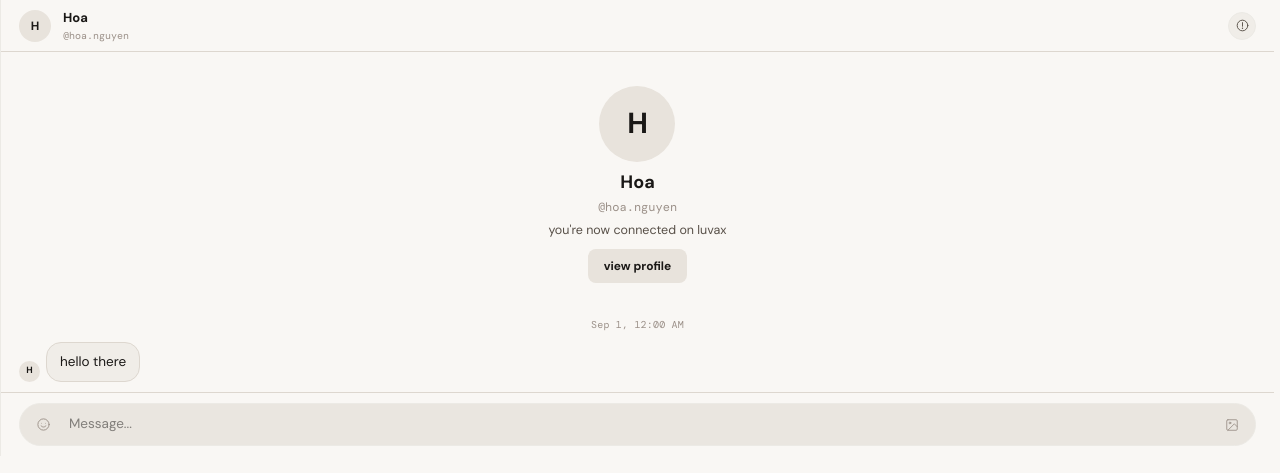
Test: reacting inside a request › offers a reaction on an accepted conversation
The width and height of the screenshot is (1280, 473).
Hover over the text "hello there": (93, 362) [46, 342, 140, 382]
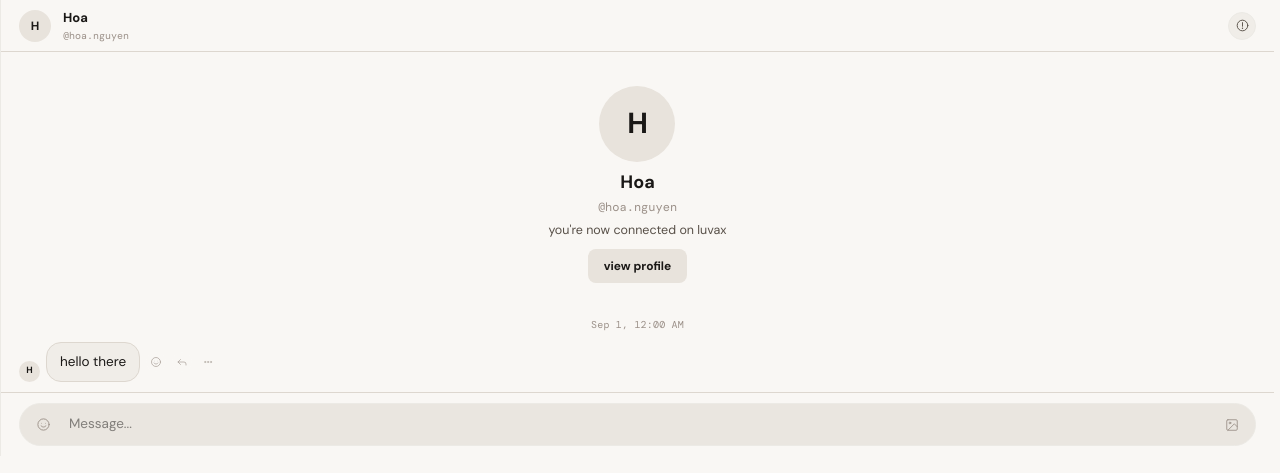
Expected: the button named "react to message" is shown, [146, 352, 166, 372]
